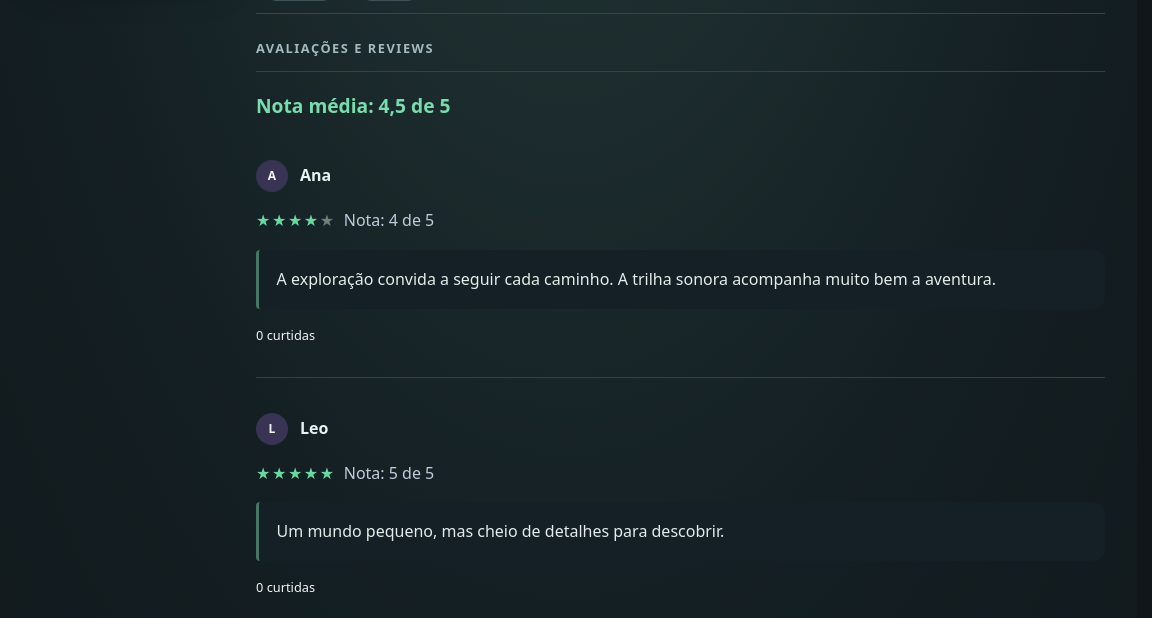
Scenario: o link da review navega até seu conteúdo com ID preservado
This screenshot has width=1152, height=618.
(page scrolled)
Click the link named "Review de Ana": (680, 259) x1=256 y1=141 x2=1105 y2=376
(page scrolled)
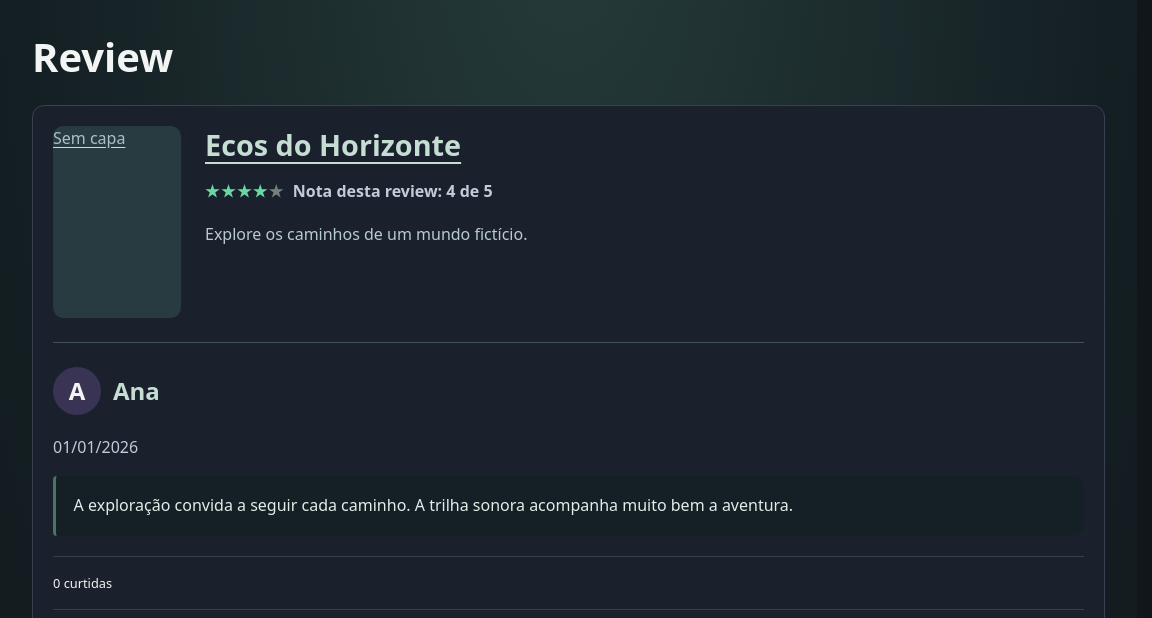
Expected: the heading "Review" is shown, x1=32 y1=29 x2=173 y2=84
Now the element named "Contexto do jogo" is shown, box x1=53 y1=126 x2=1084 y2=343
